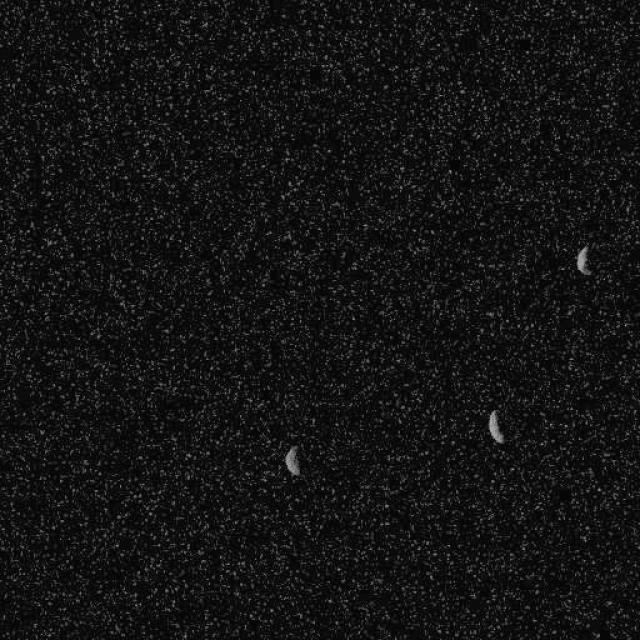D2: (486, 408, 505, 443), (282, 444, 302, 476), (575, 244, 591, 275)
